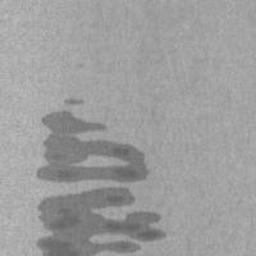Water spot: (35, 96, 170, 256)
